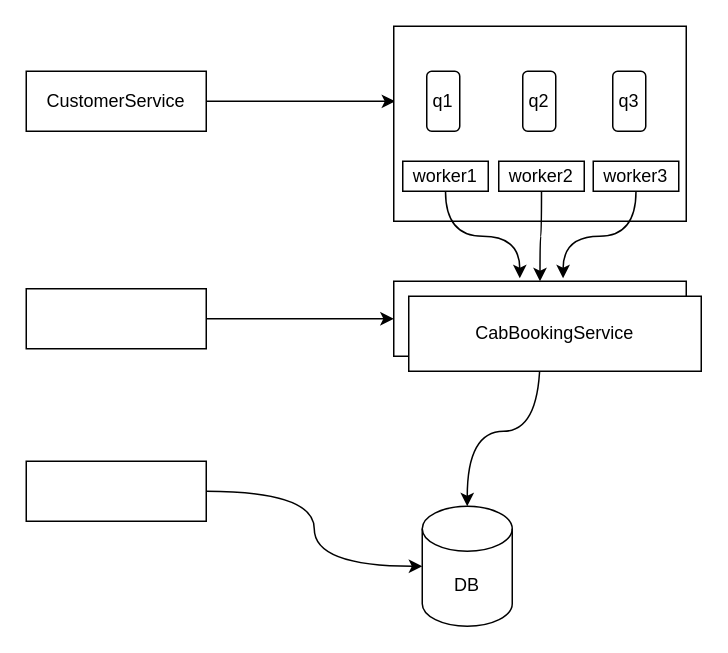
This 728x653 diagram has some shape labels left out. Here are the shapes that lost their labels. From the top down, the box of each, then its label:
(392, 25, 686, 221): QueueManager
(25, 287, 206, 349): DriverService
(25, 460, 206, 521): AdminService
